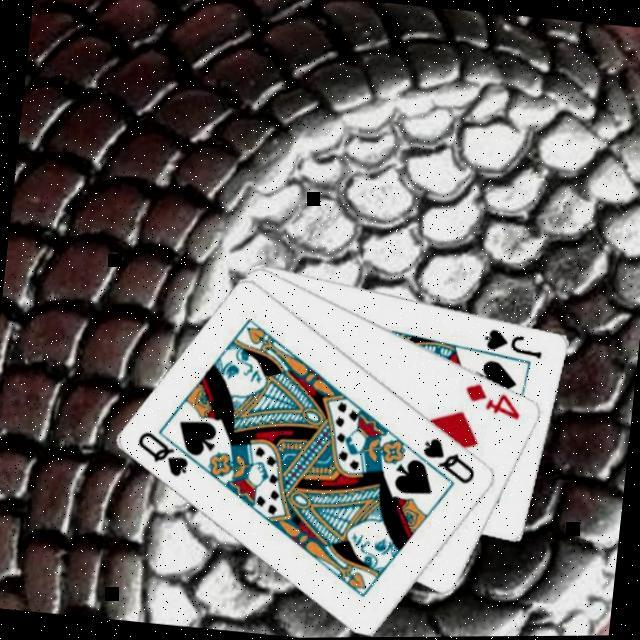4D: (460, 378, 528, 422)
JS: (480, 324, 548, 362)
QS: (418, 433, 482, 488), (132, 425, 196, 480)
